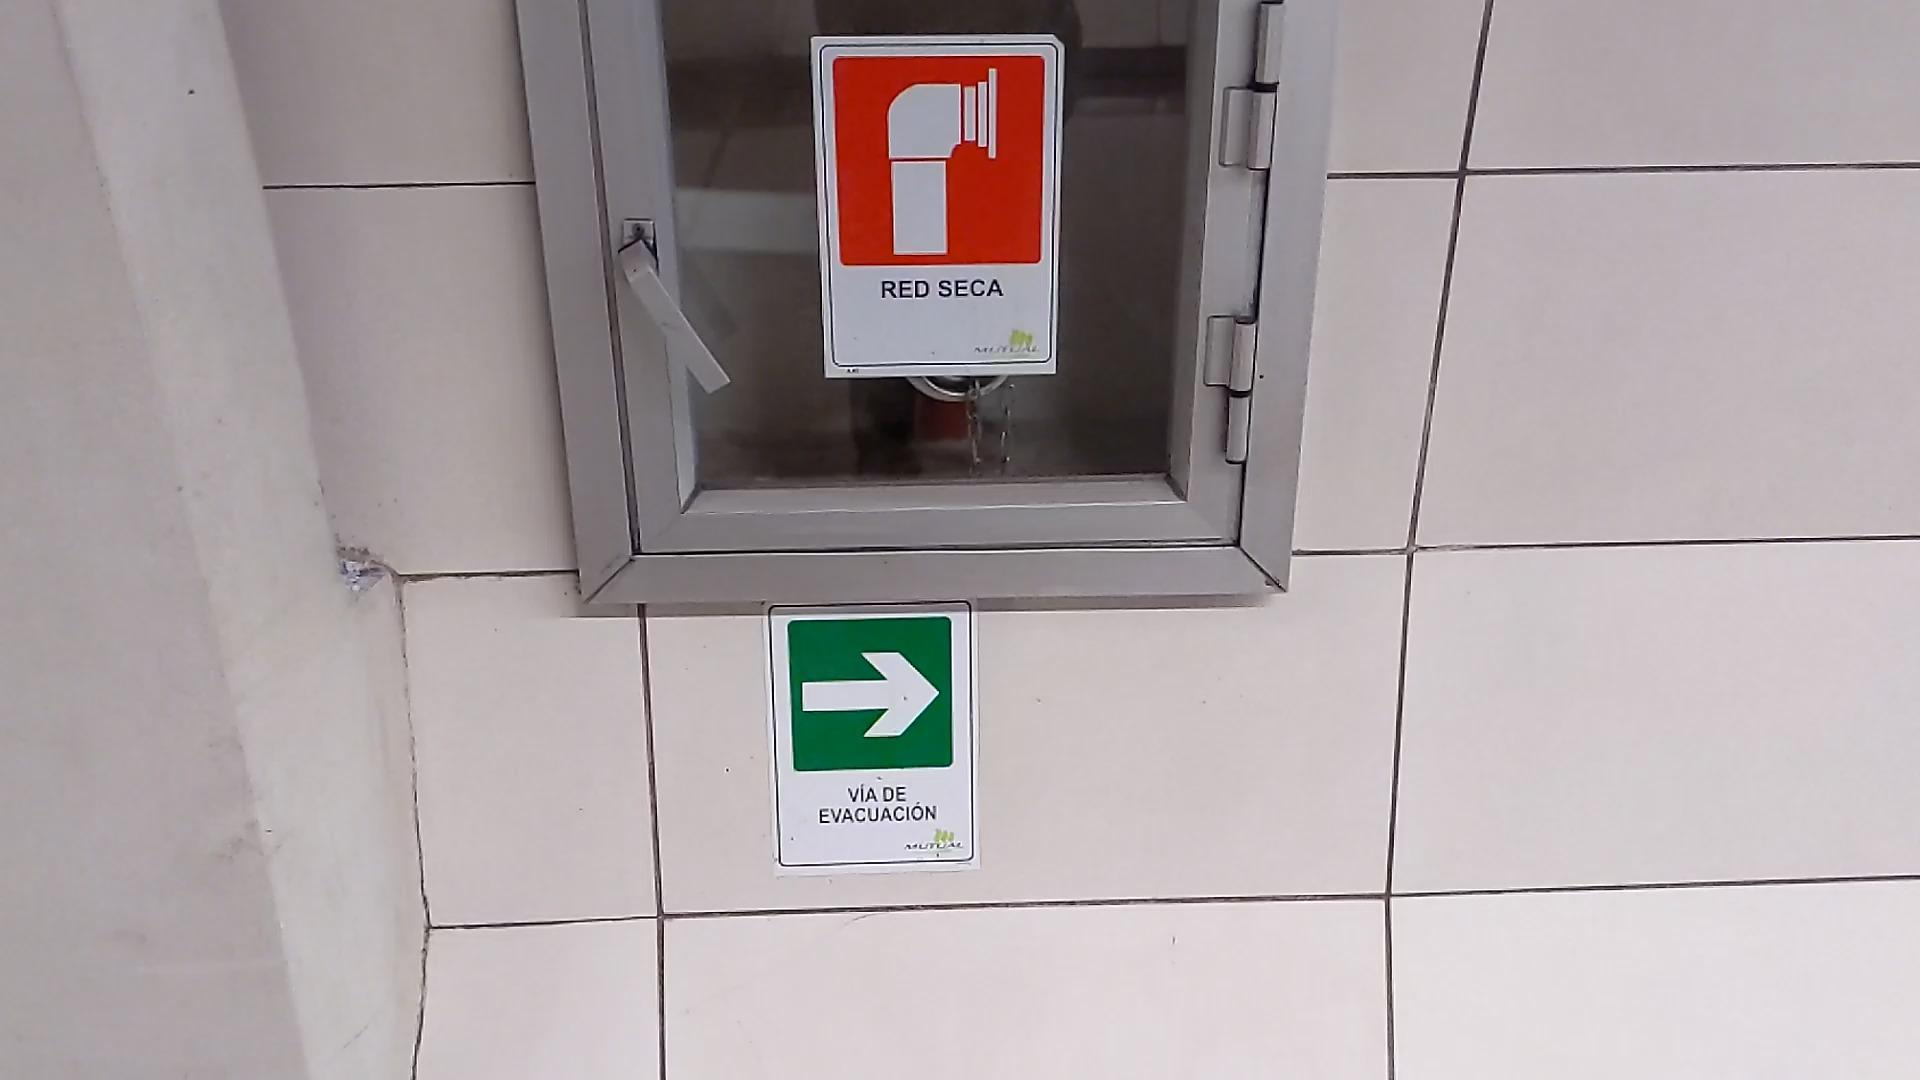emergency right arrow: (799, 645, 942, 742)
